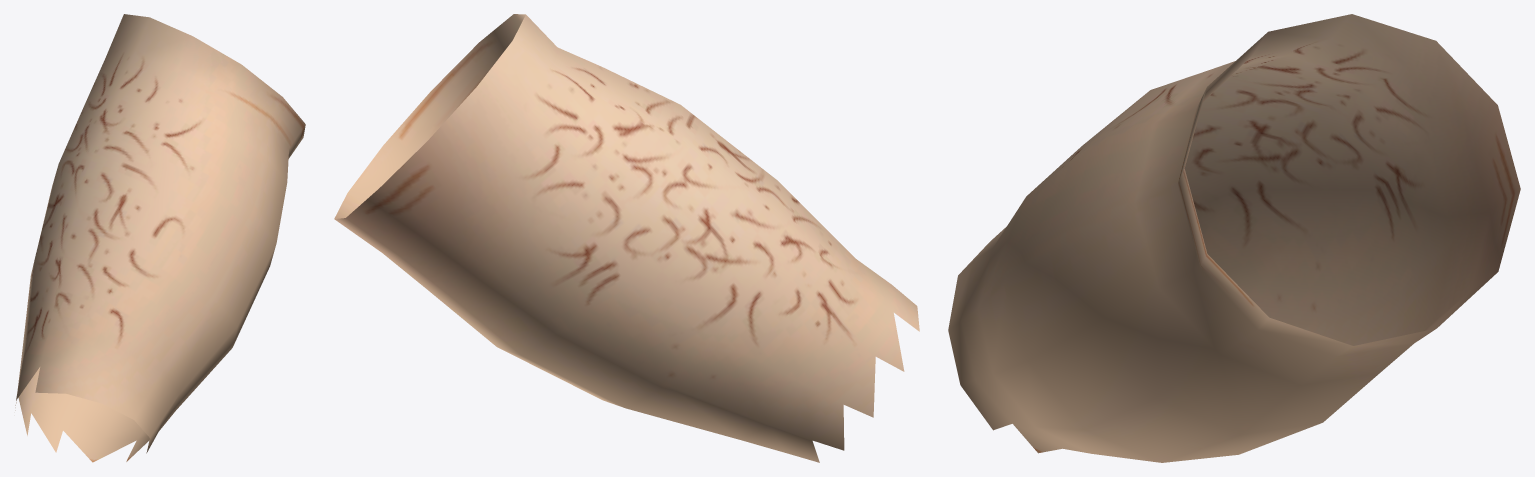
The model's file is crazydave_antebrazo_der.obj.
3 renders of one model, left to right at view 1: azimuth 30°, elevation 25°; view 2: azimuth 150°, elevation 25°; view 3: azimuth 270°, elevation 25°, orthographic. The views are drawn at different scales.
Parts seen in each view (by area): view 1: crazydave_antebrazo_der; view 2: crazydave_antebrazo_der; view 3: crazydave_antebrazo_der.
Part boxes in pixels (x1=…): crazydave_antebrazo_der: x1=15, y1=14, x2=305, y2=462; crazydave_antebrazo_der: x1=334, y1=14, x2=919, y2=462; crazydave_antebrazo_der: x1=948, y1=14, x2=1520, y2=462.
Size of the model in its own units: 0.3203 by 0.3066 by 0.2921.
